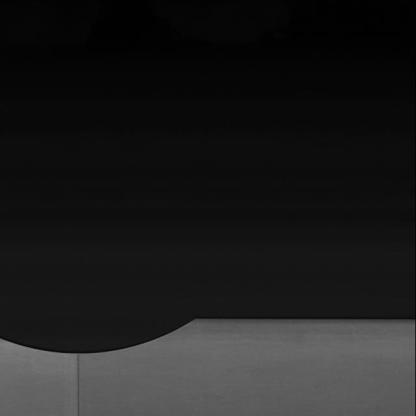crescent_gap: (0, 298, 221, 360)
welding_line: (61, 346, 89, 415)
